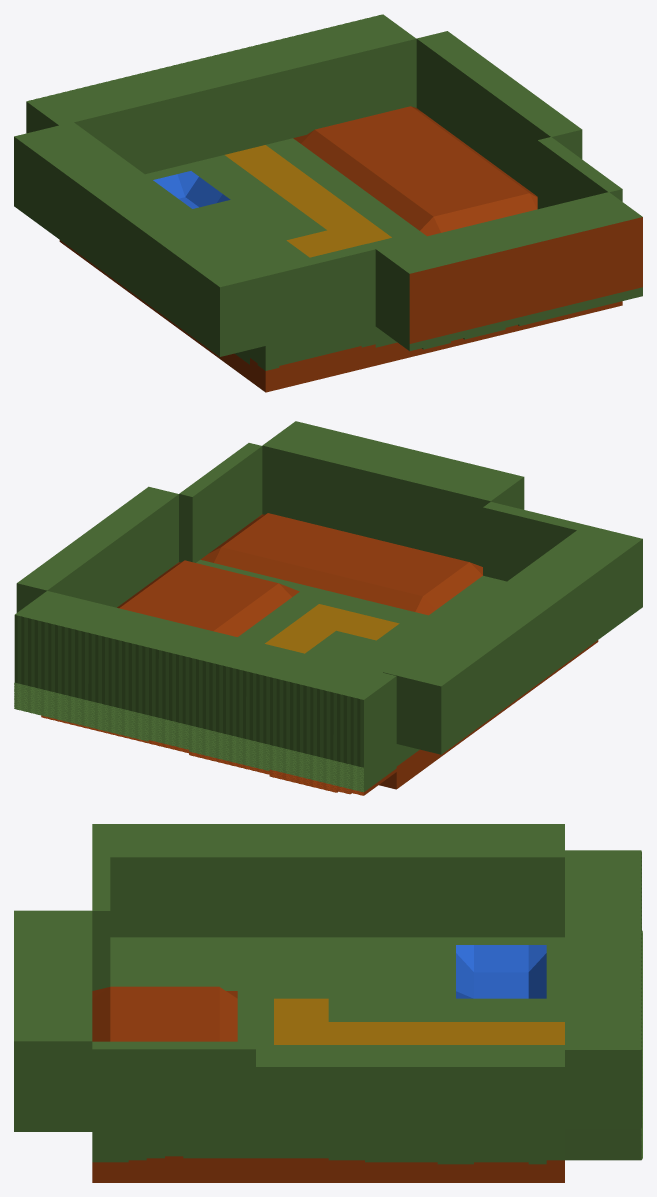
File: very simple stage.fbx
3 views of the same model, one above another, from view 1: azimuth 30°, elevation 25°; view 2: azimuth 150°, elevation 25°; view 3: azimuth 270°, elevation 25° (orthographic). The views are drawn at different scales.
Parts seen in each view (by area): view 1: Cube; view 2: Cube; view 3: Cube.
Part boxes in pixels (box(x1,y1,x2,y2)): Cube: box(14, 14, 642, 392); Cube: box(14, 421, 642, 795); Cube: box(14, 824, 642, 1182).
Size of the model in its own units: 1944 by 501 by 2129.
